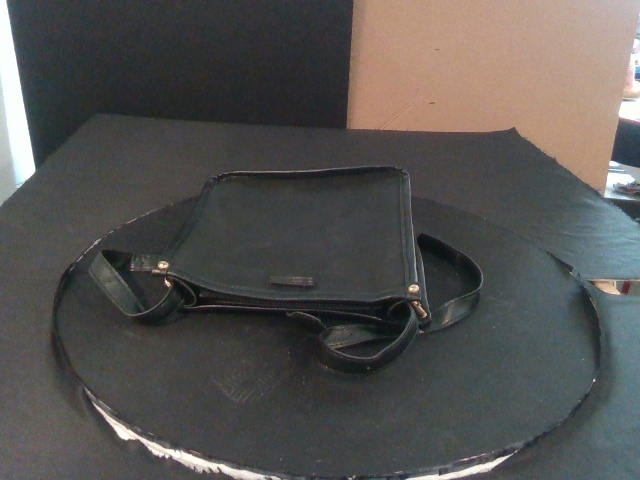bag: (151, 167, 431, 324)
